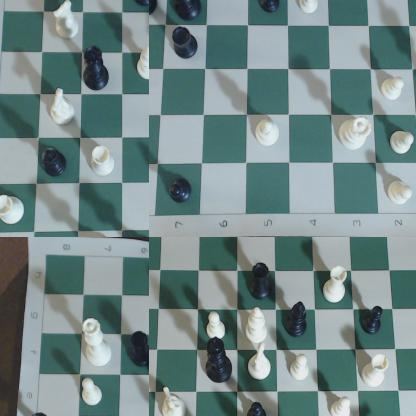black-bishop: (286, 299, 311, 340)
black-king: (204, 338, 236, 388)
black-pawn: (168, 174, 195, 207), (363, 306, 389, 340), (258, 1, 284, 17), (247, 401, 272, 416)
black-queen: (84, 47, 111, 91), (167, 1, 208, 21)
black-rook: (168, 22, 204, 63), (249, 260, 273, 302), (134, 332, 149, 370)
white-bishop: (246, 308, 273, 346), (254, 119, 282, 152), (137, 44, 149, 83)
white-king: (382, 74, 410, 103)
white-knight: (53, 1, 81, 42), (51, 89, 78, 129), (161, 384, 191, 416), (249, 345, 272, 382)
white-pawn: (388, 175, 416, 209), (76, 378, 104, 409), (204, 308, 228, 341), (287, 354, 311, 384), (391, 129, 416, 156), (298, 1, 323, 17), (332, 397, 352, 416)
white-queen: (79, 315, 115, 370), (341, 114, 378, 153)
white-rook: (321, 265, 348, 307), (363, 354, 391, 392), (89, 145, 119, 179), (1, 193, 27, 226)
